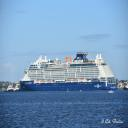cruises: (19, 50, 121, 93)
